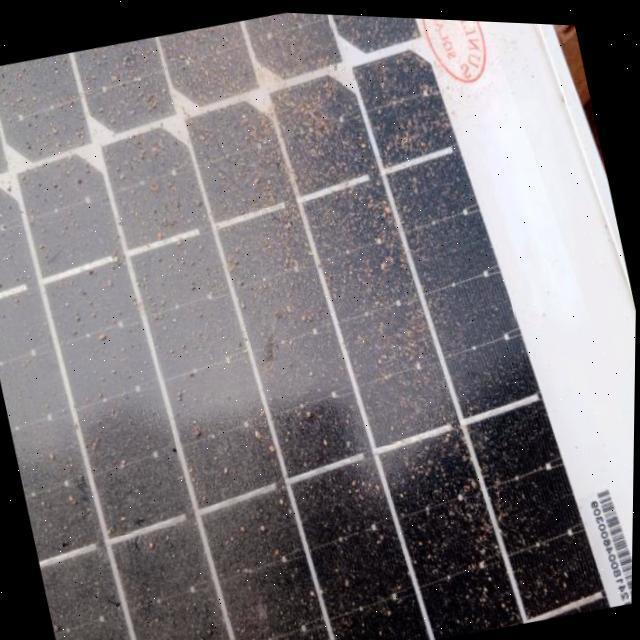Surface Contaminant: (0, 11, 573, 640)
